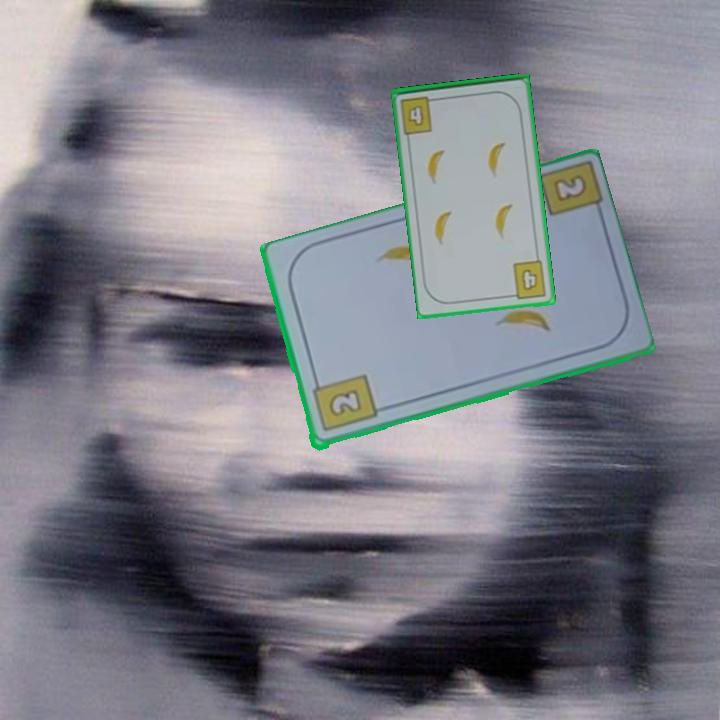2b: (308, 371, 379, 435), (553, 174, 587, 202)
4b: (396, 92, 441, 137), (506, 257, 550, 302)
